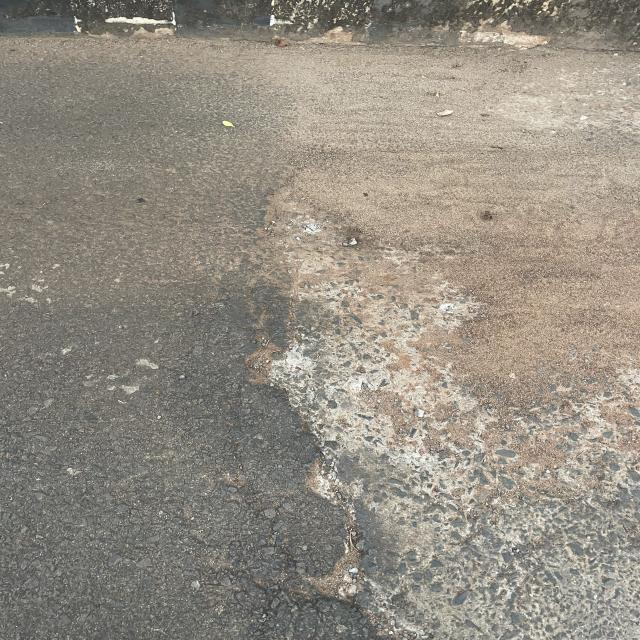D01: (250, 154, 426, 640)
D43: (470, 164, 640, 500)
